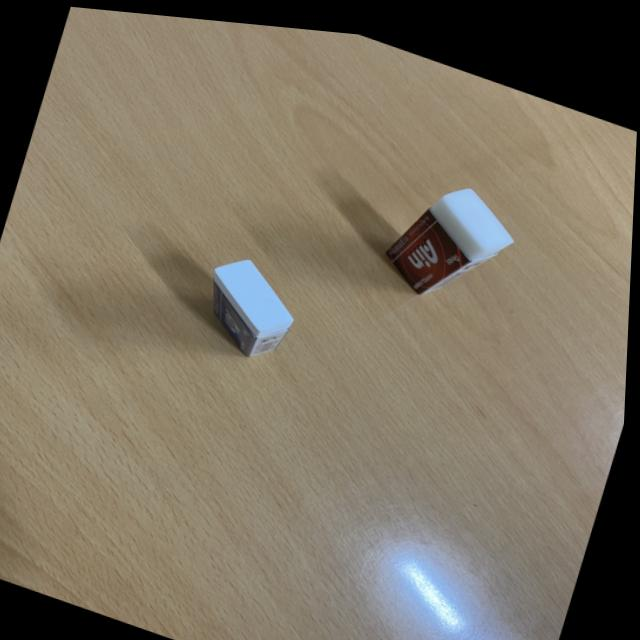blue: (191, 236, 315, 370)
red: (372, 153, 528, 314)
